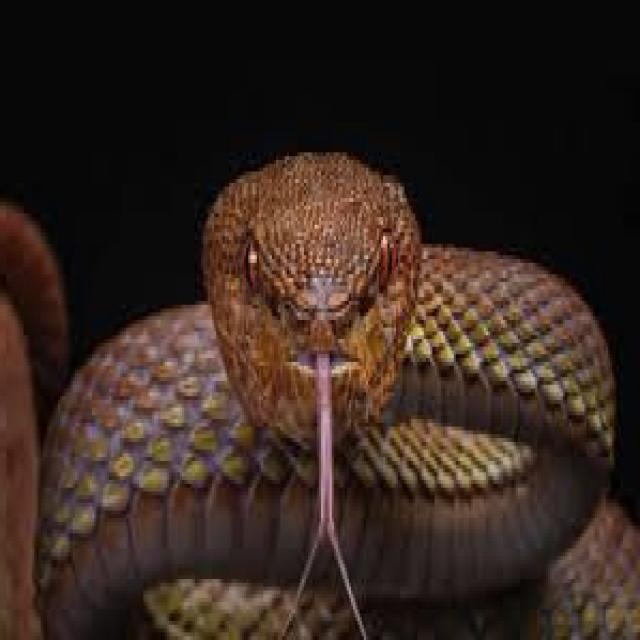snake: (2, 152, 640, 636)
